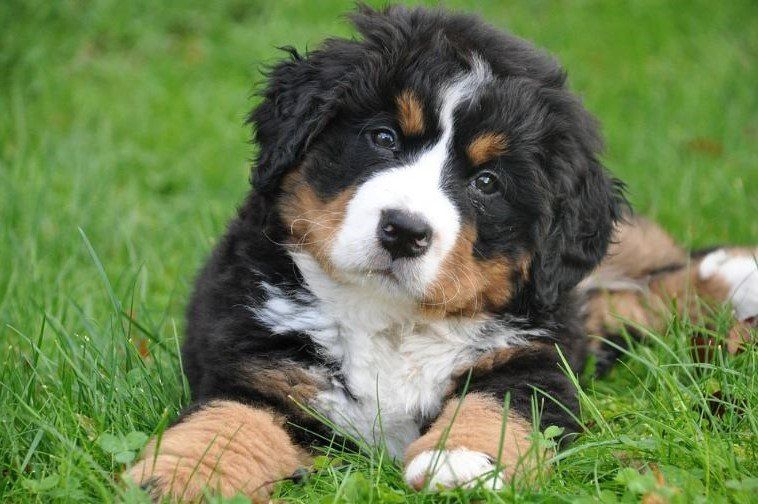dog: (118, 1, 758, 504)
